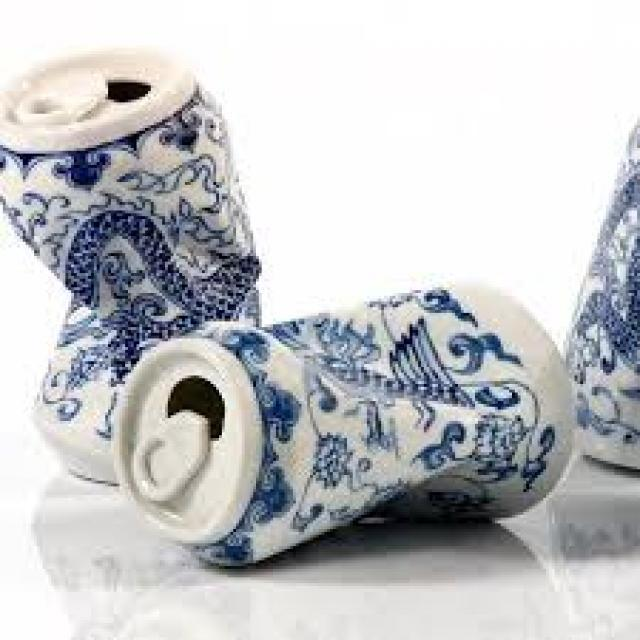recyclable: (112, 284, 574, 572), (0, 49, 259, 486), (563, 117, 640, 478)
